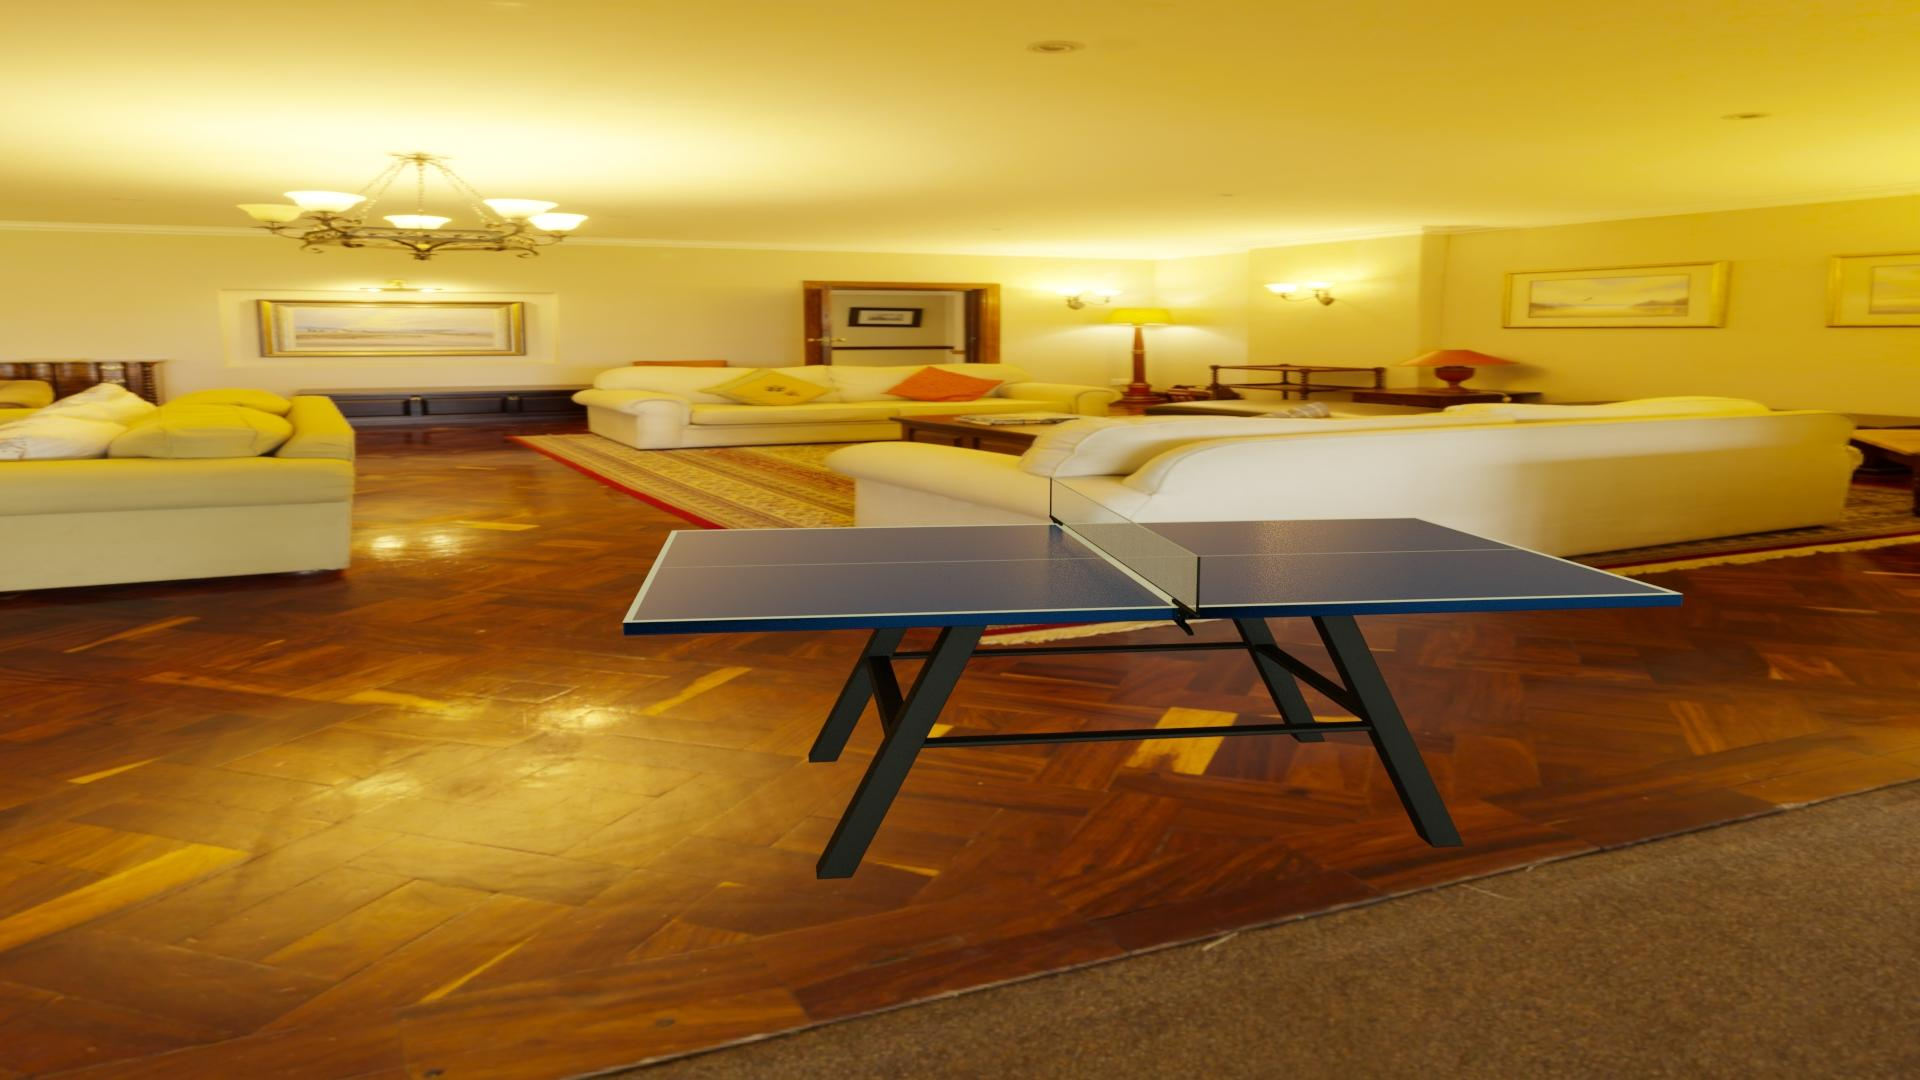table: (632, 518, 1672, 621)
